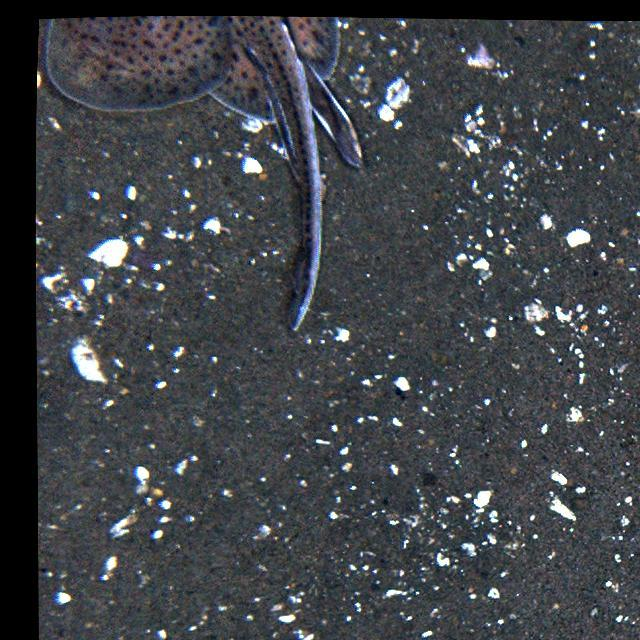skate: (41, 12, 366, 338)
